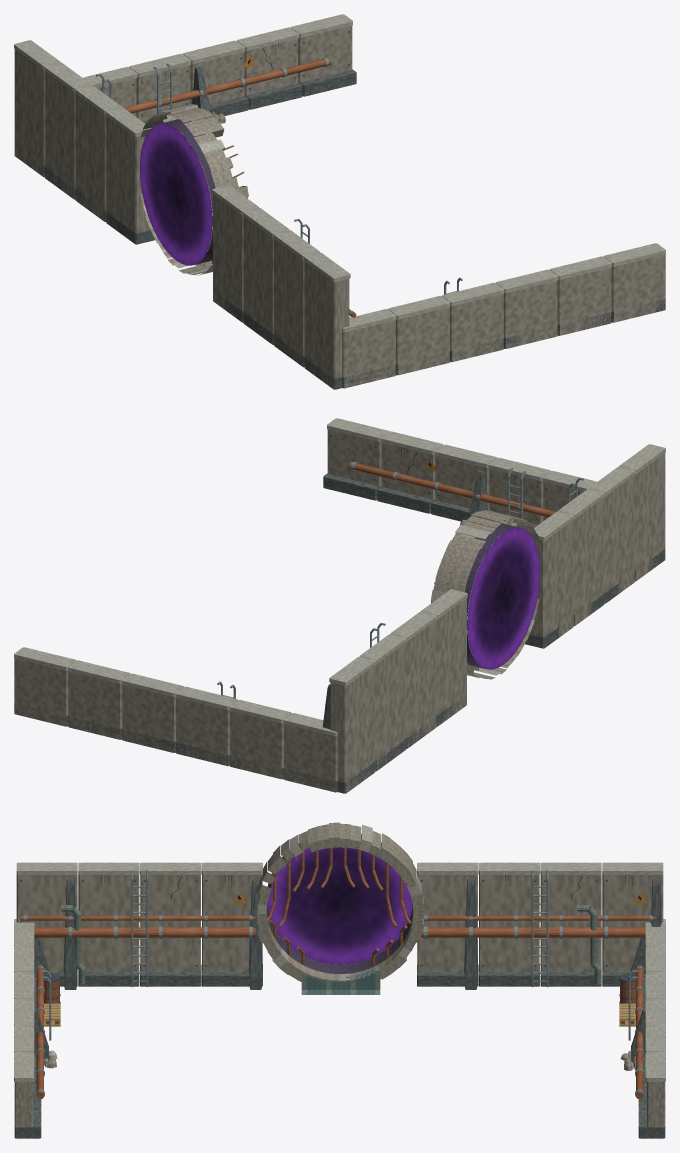
Rendered from ap_foso_nasor.glb.
The picture shows the model from 3 angles, top to bottom: view 1: azimuth 30°, elevation 25°; view 2: azimuth 150°, elevation 25°; view 3: azimuth 270°, elevation 25°; orthographic projection.
Parts seen in each view (by area): view 1: ap_foso_nasor; view 2: ap_foso_nasor; view 3: ap_foso_nasor.
Boxes of the visible parts, x1,y1,x2,y2 form: ap_foso_nasor: [14, 14, 665, 389]; ap_foso_nasor: [14, 418, 665, 793]; ap_foso_nasor: [14, 822, 665, 1138].
Size of the model in its own units: 11.83 by 5.24 by 19.96.
Materials: 2 (2 with a texture image).
